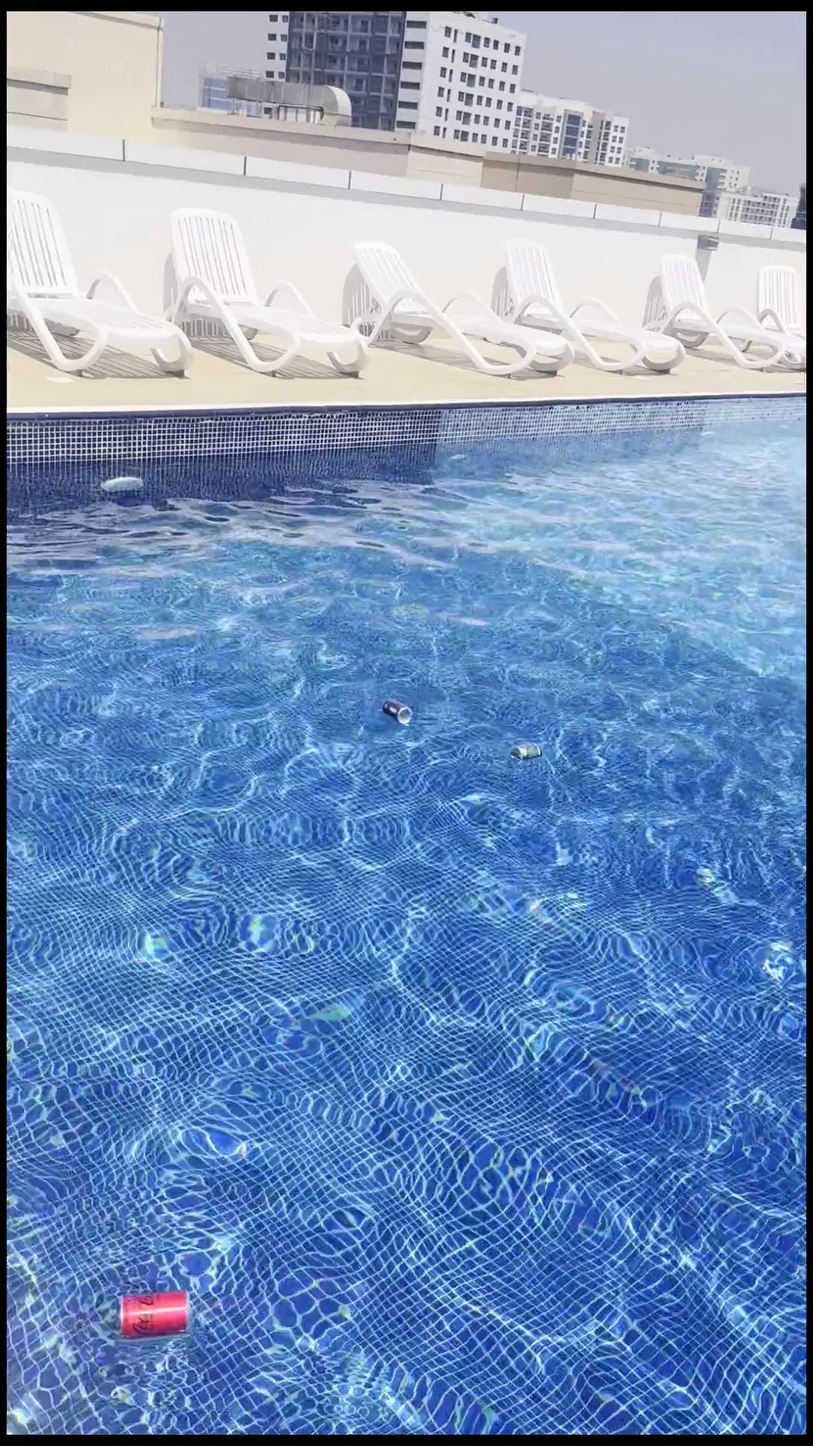debris: (114, 1268, 193, 1350), (377, 687, 412, 739), (504, 734, 542, 770)
